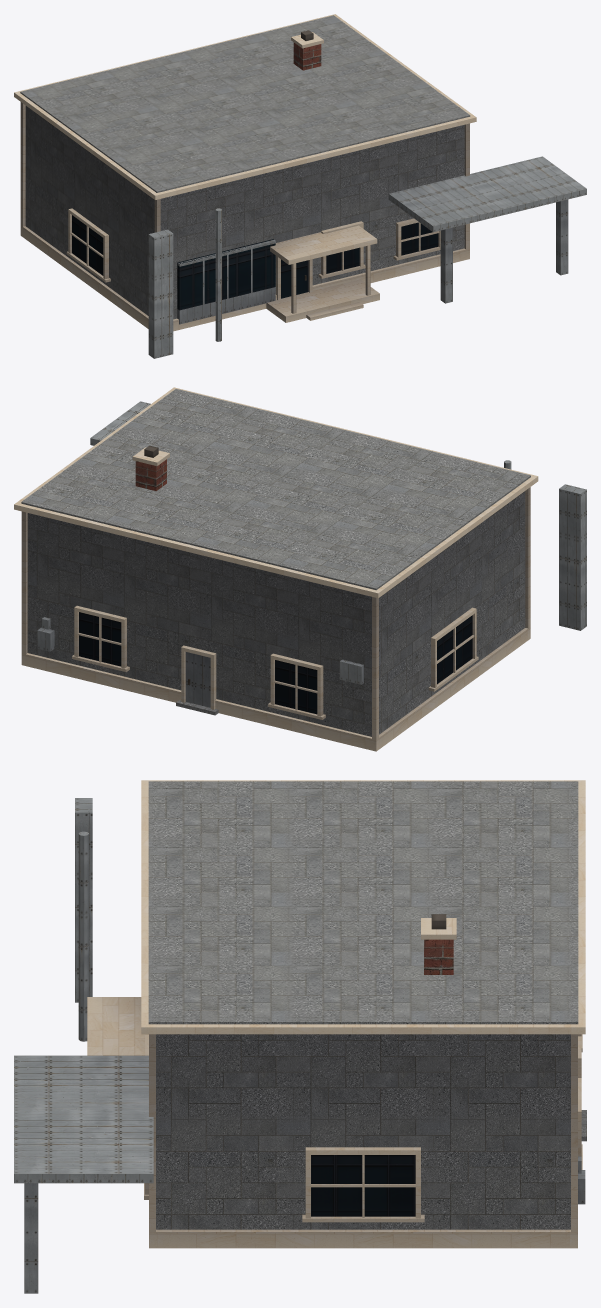
The model's file is neighborhood-bank-branch_lod0.gltf.
3 views of the same model, one above another, from view 1: azimuth 30°, elevation 25°; view 2: azimuth 150°, elevation 25°; view 3: azimuth 270°, elevation 25° (orthographic). The views are drawn at different scales.
Parts seen in each view (by area): view 1: neighborhood-bank-branch__parapet, neighborhood-bank-branch_main, neighborhood-bank-branch__v4_stone_detail, neighborhood-bank-branch__drive_canopy, neighborhood-bank-branch_fen_07-glass-curtain-blue_1_t, neighborhood-bank-branch__sign_pylon, neighborhood-bank-branch_fen_04-limestone_2, neighborhood-bank-branch_fen_14-steel-panel_0, neighborhood-bank-branch__drive_post_b, neighborhood-bank-branch__drive_post_a, neighborhood-bank-branch__flag, neighborhood-bank-branch__v4_brick_detail; view 2: neighborhood-bank-branch_main, neighborhood-bank-branch__parapet, neighborhood-bank-branch__v4_stone_detail, neighborhood-bank-branch_fen_04-limestone_2, neighborhood-bank-branch_fen_07-glass-curtain-blue_1_t, neighborhood-bank-branch__sign_pylon, neighborhood-bank-branch_fen_14-steel-panel_0, neighborhood-bank-branch__v4_brick_detail, neighborhood-bank-branch__drive_canopy; view 3: neighborhood-bank-branch__parapet, neighborhood-bank-branch_main, neighborhood-bank-branch__v4_stone_detail, neighborhood-bank-branch__drive_canopy, neighborhood-bank-branch_fen_07-glass-curtain-blue_1_t, neighborhood-bank-branch_fen_04-limestone_2, neighborhood-bank-branch__flag, neighborhood-bank-branch__sign_pylon, neighborhood-bank-branch__drive_post_b, neighborhood-bank-branch__v4_brick_detail.
Boxes of the visible parts, box(x1,y1,x2,y2) form: neighborhood-bank-branch__parapet: box(20, 15, 470, 192); neighborhood-bank-branch_main: box(25, 106, 464, 319); neighborhood-bank-branch__v4_stone_detail: box(14, 14, 476, 331); neighborhood-bank-branch__drive_canopy: box(388, 156, 586, 232); neighborhood-bank-branch_fen_07-glass-curtain-blue_1_t: box(72, 215, 438, 310); neighborhood-bank-branch__sign_pylon: box(148, 229, 173, 358); neighborhood-bank-branch_fen_04-limestone_2: box(66, 208, 440, 300); neighborhood-bank-branch_fen_14-steel-panel_0: box(177, 240, 275, 324); neighborhood-bank-branch__drive_post_b: box(556, 199, 568, 275); neighborhood-bank-branch__drive_post_a: box(440, 227, 452, 303); neighborhood-bank-branch__flag: box(215, 208, 221, 341); neighborhood-bank-branch__v4_brick_detail: box(293, 42, 321, 70); neighborhood-bank-branch_main: box(27, 491, 525, 736); neighborhood-bank-branch__parapet: box(21, 389, 530, 590); neighborhood-bank-branch__v4_stone_detail: box(14, 387, 538, 751); neighborhood-bank-branch_fen_04-limestone_2: box(72, 605, 478, 719); neighborhood-bank-branch_fen_07-glass-curtain-blue_1_t: box(79, 612, 472, 714); neighborhood-bank-branch__sign_pylon: box(559, 484, 586, 630); neighborhood-bank-branch_fen_14-steel-panel_0: box(37, 617, 363, 707); neighborhood-bank-branch__v4_brick_detail: box(135, 459, 166, 491); neighborhood-bank-branch__drive_canopy: box(90, 401, 150, 445); neighborhood-bank-branch__parapet: box(148, 781, 578, 1024); neighborhood-bank-branch_main: box(156, 1034, 570, 1229); neighborhood-bank-branch__v4_stone_detail: box(87, 780, 585, 1248); neighborhood-bank-branch__drive_canopy: box(14, 1055, 153, 1183); neighborhood-bank-branch_fen_07-glass-curtain-blue_1_t: box(311, 1155, 415, 1216); neighborhood-bank-branch_fen_04-limestone_2: box(144, 1034, 582, 1222); neighborhood-bank-branch__flag: box(78, 831, 88, 1041); neighborhood-bank-branch__sign_pylon: box(75, 798, 92, 1002); neighborhood-bank-branch__drive_post_b: box(24, 1183, 38, 1293); neighborhood-bank-branch__v4_brick_detail: box(424, 939, 453, 974).
Size of the model in its own units: 21.5 by 8.74 by 16.4.
